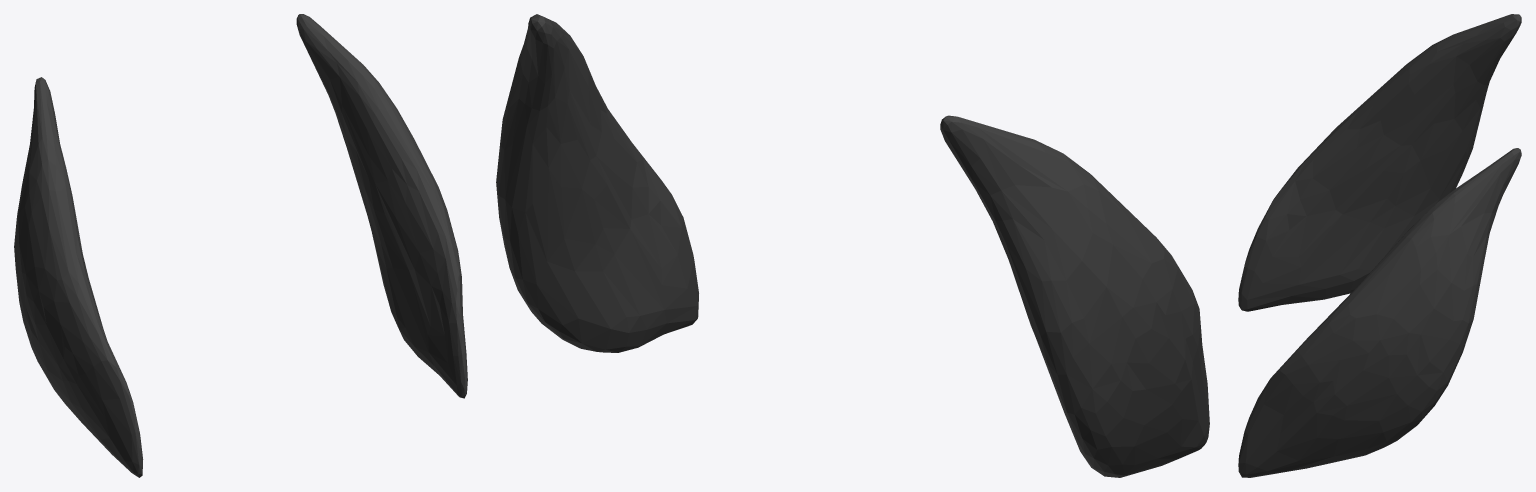
Rendered from m_triceps_brach_lat.glb.
3 renders of one model, left to right at view 1: azimuth 30°, elevation 25°; view 2: azimuth 150°, elevation 25°; view 3: azimuth 270°, elevation 25°, orthographic. The views are drawn at different scales.
Parts seen in each view (by area): view 1: m_triceps_brach_lat; view 2: m_triceps_brach_lat; view 3: m_triceps_brach_lat.
Boxes of the visible parts, x1=… form: m_triceps_brach_lat: x1=14, y1=14, x2=467, y2=477; m_triceps_brach_lat: x1=496, y1=14, x2=1209, y2=477; m_triceps_brach_lat: x1=1238, y1=14, x2=1521, y2=477.
Bounding box in the file's own units: 0.00497 × 0.00356 × 0.00292.
Materials: 1 (1 with a texture image).
